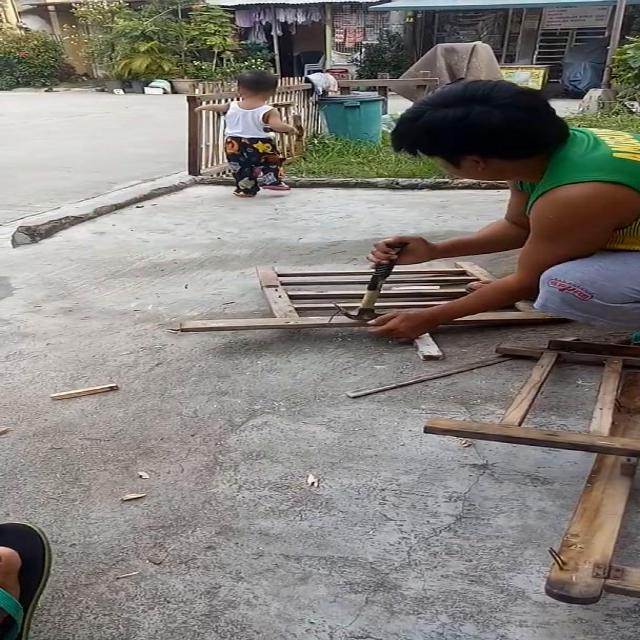hammer: (332, 240, 402, 322), (261, 122, 307, 140)
